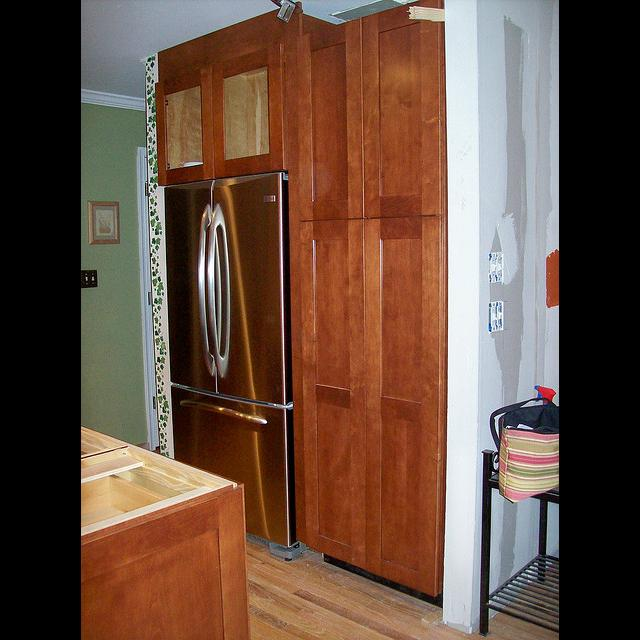Refrigerator: (162, 174, 295, 548)
